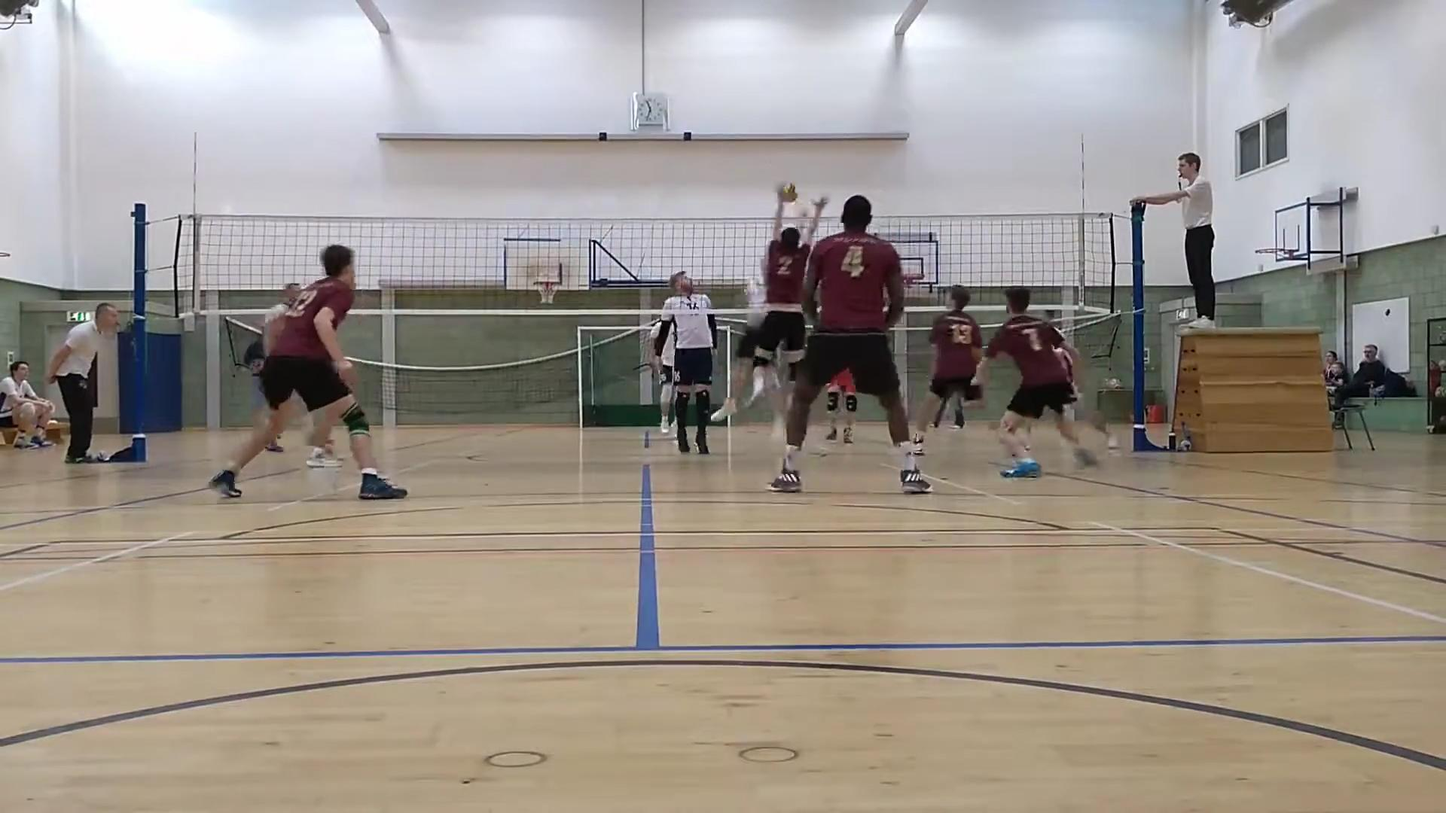Block: (752, 192, 835, 394)
Player: (209, 245, 407, 498), (770, 196, 931, 493), (975, 288, 1097, 477), (652, 272, 716, 454), (914, 286, 982, 453), (243, 283, 301, 422), (1056, 348, 1118, 449), (730, 276, 775, 406), (825, 370, 857, 443), (656, 336, 673, 434), (932, 397, 965, 430)
ball: (779, 183, 802, 200)
